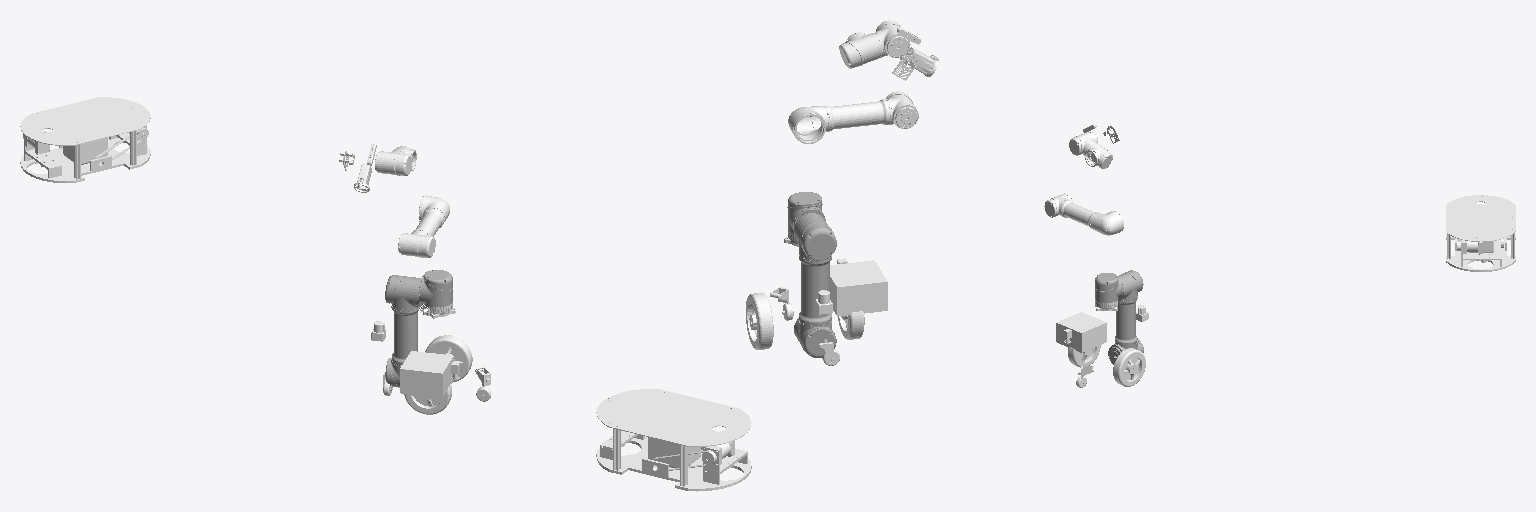
--- What the picture shows (computed from the rendered views, not written in the file) ---
3 views of the same robot in one strip: view 1: azimuth 30°, elevation 25°; view 2: azimuth 150°, elevation 25°; view 3: azimuth 270°, elevation 25° (orthographic).
Model agv_arm with 31 links and 30 joints (12 revolute, 2 prismatic, 16 fixed), rooted at base_link, posed all joints at 0.
Links seen in each view (by area): view 1: base_link, link2, pc_link, link3, link1, right_link, link5, left_link; view 2: base_link, link2, link3, pc_link, right_link, link4, link1, link5, left_link; view 3: base_link, link2, link3, pc_link, right_link, link1, link4.
Boxes of the visible links, x1,y1,x2,y2 form: base_link: (20,97,150,182); link2: (385,275,422,387); pc_link: (400,351,453,397); link3: (398,195,449,257); link1: (419,270,452,314); right_link: (425,335,472,381); link5: (375,151,411,175); left_link: (404,384,451,414); base_link: (596,389,751,491); link2: (794,213,836,357); link3: (788,91,918,143); pc_link: (830,260,887,316); right_link: (746,293,773,349); link4: (839,32,882,68); link1: (787,192,825,243); link5: (875,20,910,57); left_link: (838,311,864,339); base_link: (1446,195,1515,271); link2: (1108,270,1143,364); link3: (1044,193,1123,235); pc_link: (1056,312,1106,352); right_link: (1113,348,1145,386); link1: (1095,273,1123,309); link4: (1084,142,1112,168).
Bounding box of the posed robot: 1.04 × 2.37 × 1.24 m (x, y, z).
21 mesh visuals loaded from 22 distinct referenced files (21 binary STL); not drawn: 1 (reference not matched to a file when rendering).

robot.urdf — agv_arm:
<?xml version="1.0" encoding="utf-8"?>
<!-- =================================================================================== -->
<!-- |    This document was autogenerated by xacro from test_agv_arm.xacro             | -->
<!-- |    EDITING THIS FILE BY HAND IS NOT RECOMMENDED                                 | -->
<!-- =================================================================================== -->
<robot name="agv_arm">
  <!-- T265 Fisheye:

  gazebo_ros_camera supports only plumb_bob
  D: [-0.007419134024530649, 0.041209351271390915, -0.03811917081475258, 0.006366158835589886, 0.0]

  <distortionK1>-0.007419134024530649</distortionK1>
  <distortionK2>0.041209351271390915</distortionK2>
  <distortionK3>-0.03811917081475258</distortionK3>
  <distortionT1>0.006366158835589886</distortionT1>
  <distortionT2>0.0</distortionT2>

       [fx'  0  cx' Tx]
   P = [ 0  fy' cy' Ty]
       [ 0   0   1   0]

   P : [ 285.5480041503906, 0.0, 416.00531005859375, 0.0,
         0.0, 285.3793029785156, 403.38909912109375, 0.0,
         0.0, 0.0, 1.0, 0.0 ]

  <CxPrime>416.00531005859375</CxPrime>

       [fx  0 cx]
   K = [ 0 fy cy]
       [ 0  0  1]

   K : [ 285.5480041503906, 0.0, 416.00531005859375,
         0.0, 285.3793029785156, 403.38909912109375,
         0.0, 0.0, 1.0]

  <Cx>16.00531005859375</Cx>
  <Cy>403.38909912109375</Cy>

  -->
  <!-- INTEL REALSENSE T265 -->
  <!-- INTEL REALSENSE D435 -->
  <!-- INTEL REALSENSE R200 -->
  <link name="base_link">
    <inertial>
      <origin rpy="0 0 0" xyz="0.570341970178263 -1.88528825872453 -0.303668536274056"/>
      <mass value="5.35773705728221"/>
      <inertia ixx="0.0789888195141756" ixy="0.0296735251325005" ixz="6.86804058743938E-05" iyy="0.0636306474316624" iyz="-6.67380007365019E-05" izz="0.111507797834734"/>
    </inertial>
    <visual>
      <origin rpy="0 0 0" xyz="0 0 0"/>
      <geometry>
        <mesh filename="package://agv_arm/meshes/base_link.STL"/>
      </geometry>
      <material name="">
        <color rgba="1 1 1 1"/>
      </material>
    </visual>
    <collision>
      <origin rpy="0 0 0" xyz="0 0 0"/>
      <geometry>
        <mesh filename="package://agv_arm/meshes/base_link.STL"/>
      </geometry>
    </collision>
  </link>
  <link name="left_link">
    <inertial>
      <origin rpy="0 0 0" xyz="-3.3515E-11 -2.999E-08 -0.0034865"/>
      <mass value="1.043"/>
      <inertia ixx="0.0031452" ixy="-1.693E-13" ixz="1.1637E-08" iyy="0.0031454" iyz="7.3781E-11" izz="0.005867"/>
    </inertial>
    <visual>
      <origin rpy="0 0 0" xyz="0 0 0"/>
      <geometry>
        <mesh filename="package://agv_arm/meshes/left_link.STL"/>
      </geometry>
      <material name="">
        <color rgba="1 1 1 1"/>
      </material>
    </visual>
    <collision>
      <origin rpy="0 0 0" xyz="0 0 0"/>
      <geometry>
        <mesh filename="package://agv_arm/meshes/left_link.STL"/>
      </geometry>
    </collision>
  </link>
  <joint name="left_joint" type="revolute">
    <origin rpy="1.5708 -0.087266 -0.7854" xyz="0.45399 -2.0016 -0.34097"/>
    <parent link="base_link"/>
    <child link="left_link"/>
    <axis xyz="0 0 -1"/>
    <limit effort="1" lower="-1111" upper="1111" velocity="1"/>
  </joint>
  <link name="right_link">
    <inertial>
      <origin rpy="0 0 0" xyz="-3.3515E-11 -2.999E-08 -0.0034865"/>
      <mass value="1.043"/>
      <inertia ixx="0.0031452" ixy="-1.693E-13" ixz="1.1637E-08" iyy="0.0031454" iyz="7.3781E-11" izz="0.005867"/>
    </inertial>
    <visual>
      <origin rpy="0 0 0" xyz="0 0 0"/>
      <geometry>
        <mesh filename="package://agv_arm/meshes/right_link.STL"/>
      </geometry>
      <material name="">
        <color rgba="1 1 1 1"/>
      </material>
    </visual>
    <collision>
      <origin rpy="0 0 0" xyz="0 0 0"/>
      <geometry>
        <mesh filename="package://agv_arm/meshes/right_link.STL"/>
      </geometry>
    </collision>
  </link>
  <joint name="right_joint" type="revolute">
    <origin rpy="1.5708 -0.087266 2.3562" xyz="0.68663 -1.7689 -0.34097"/>
    <parent link="base_link"/>
    <child link="right_link"/>
    <axis xyz="0 0 -1"/>
    <limit effort="1" lower="-1111" upper="1111" velocity="1"/>
  </joint>
  <link name="lidar_link">
    <inertial>
      <origin rpy="0 0 0" xyz="-0.00029615 1.1284E-09 -0.020472"/>
      <mass value="0.13159"/>
      <inertia ixx="7.1462E-05" ixy="3.3196E-12" ixz="8.6535E-07" iyy="7.2311E-05" iyz="-2.4711E-12" izz="4.4677E-05"/>
    </inertial>
    <visual>
      <origin rpy="0 0 0" xyz="0 0 0"/>
      <geometry>
        <mesh filename="package://agv_arm/meshes/lidar_link.STL"/>
      </geometry>
      <material name="">
        <color rgba="1 1 1 1"/>
      </material>
    </visual>
    <collision>
      <origin rpy="0 0 0" xyz="0 0 0"/>
      <geometry>
        <mesh filename="package://agv_arm/meshes/lidar_link.STL"/>
      </geometry>
    </collision>
  </link>
  <joint name="lidar_joint" type="fixed">
    <origin rpy="0 0 2.35619449021312" xyz="0.392951119656292 -1.70790005142473 -0.152629369887627"/>
    <parent link="base_link"/>
    <child link="lidar_link"/>
    <axis xyz="0 0 0"/>
  </joint>
  <link name="pwr_link">
    <inertial>
      <origin rpy="0 0 0" xyz="0.0149998988087228 0.0149999922703186 0.0302002587155129"/>
      <mass value="0.0494935351719684"/>
      <inertia ixx="2.25637713562706E-05" ixy="1.12310101294322E-11" ixz="1.59879773971087E-10" iyy="2.25636840533923E-05" iyz="1.00765741356031E-11" izz="6.57719217809586E-06"/>
    </inertial>
    <visual>
      <origin rpy="0 0 0" xyz="0 0 0"/>
      <geometry>
        <mesh filename="package://agv_arm/meshes/pwr_link.STL"/>
      </geometry>
      <material name="">
        <color rgba="1 1 1 1"/>
      </material>
    </visual>
    <collision>
      <origin rpy="0 0 0" xyz="0 0 0"/>
      <geometry>
        <mesh filename="package://agv_arm/meshes/pwr_link.STL"/>
      </geometry>
    </collision>
  </link>
  <joint name="pwr_joint" type="fixed">
    <origin rpy="0 0 -0.785398163397464" xyz="0.537047851449455 -2.06195108550525 -0.202629369887631"/>
    <parent link="base_link"/>
    <child link="pwr_link"/>
    <axis xyz="0 0 0"/>
  </joint>
  <link name="pc_link">
    <inertial>
      <origin rpy="0 0 0" xyz="0.0900000000000007 0.0899999999999996 0.0549999999999987"/>
      <mass value="3.564"/>
      <inertia ixx="0.0132165" ixy="2.16840434497101E-18" ixz="4.48566380417753E-17" iyy="0.0132165" iyz="3.91188156878236E-17" izz="0.0192456"/>
    </inertial>
    <visual>
      <origin rpy="0 0 0" xyz="0 0 0"/>
      <geometry>
        <mesh filename="package://agv_arm/meshes/pc_link.STL"/>
      </geometry>
      <material name="">
        <color rgba="1 1 1 1"/>
      </material>
    </visual>
    <collision>
      <origin rpy="0 0 0" xyz="0 0 0"/>
      <geometry>
        <mesh filename="package://agv_arm/meshes/pc_link.STL"/>
      </geometry>
    </collision>
  </link>
  <joint name="pc_joint" type="fixed">
    <origin rpy="0 0 -0.785398163397444" xyz="0.443428957278179 -1.8856571096602 -0.202629369887629"/>
    <parent link="base_link"/>
    <child link="pc_link"/>
    <axis xyz="0 0 0"/>
  </joint>
  <link name="arm_base_link">
    <inertial>
      <origin rpy="0 0 0" xyz="0.00490052804003338 -0.00481017320563648 -0.021066541781232"/>
      <mass value="0.186287727416132"/>
      <inertia ixx="0.000289688079345907" ixy="2.81201318343738E-05" ixz="1.49660636248942E-06" iyy="0.00029261821718986" iyz="-1.97623307664118E-06" izz="0.000520691140482188"/>
    </inertial>
    <visual>
      <origin rpy="0 0 0" xyz="0 0 0"/>
      <geometry>
        <mesh filename="package://agv_arm/meshes/arm_base_link.STL"/>
      </geometry>
      <material name="">
        <color rgba="1 1 1 1"/>
      </material>
    </visual>
    <collision>
      <origin rpy="0 0 0" xyz="0 0 0"/>
      <geometry>
        <mesh filename="package://agv_arm/meshes/arm_base_link.STL"/>
      </geometry>
    </collision>
  </link>
  <joint name="arm_base_joint" type="fixed">
    <origin rpy="0 0 0.785398163397444" xyz="0.0900000000000019 0.0900000000000007 0.148999999999999"/>
    <parent link="pc_link"/>
    <child link="arm_base_link"/>
    <axis xyz="0 0 0"/>
  </joint>
  <link name="link1">
    <inertial>
      <origin rpy="0 0 0" xyz="-0.0580836115244474 -0.00236345578723585 3.37147547622152E-05"/>
      <mass value="1.61405847784087"/>
      <inertia ixx="0.00291567801316754" ixy="-3.39495643450864E-05" ixz="3.86124786793899E-06" iyy="0.00431965883928423" iyz="-2.13734994359421E-07" izz="0.0043496458043079"/>
    </inertial>
    <visual>
      <origin rpy="0 0 0" xyz="0 0 0"/>
      <geometry>
        <mesh filename="package://agv_arm/meshes/link1.STL"/>
      </geometry>
      <material name="">
        <color rgba="0.752941176470588 0.752941176470588 0.752941176470588 1"/>
      </material>
    </visual>
    <collision>
      <origin rpy="0 0 0" xyz="0 0 0"/>
      <geometry>
        <mesh filename="package://agv_arm/meshes/link1.STL"/>
      </geometry>
    </collision>
  </link>
  <joint name="joint1" type="revolute">
    <origin rpy="2.3562 1.5708 0" xyz="0 0 0.0147"/>
    <parent link="arm_base_link"/>
    <child link="link1"/>
    <axis xyz="-1 0 0"/>
    <limit effort="1" lower="-11" upper="11" velocity="1"/>
  </joint>
  <link name="link2">
    <inertial>
      <origin rpy="0 0 0" xyz="-0.058443072043219 -0.187149982610973 8.10917333282646E-10"/>
      <mass value="3.791948779547"/>
      <inertia ixx="0.12031941503411" ixy="-4.02923389005563E-07" ixz="-8.3128712247138E-12" iyy="0.00991248720502792" iyz="-2.05172273895114E-05" izz="0.123189953162704"/>
    </inertial>
    <visual>
      <origin rpy="0 0 0" xyz="0 0 0"/>
      <geometry>
        <mesh filename="package://agv_arm/meshes/link2.STL"/>
      </geometry>
      <material name="">
        <color rgba="0.752941176470588 0.752941176470588 0.752941176470588 1"/>
      </material>
    </visual>
    <collision>
      <origin rpy="0 0 0" xyz="0 0 0"/>
      <geometry>
        <mesh filename="package://agv_arm/meshes/link2.STL"/>
      </geometry>
    </collision>
  </link>
  <joint name="joint2" type="revolute">
    <origin rpy="-3.1411 0 1.5708" xyz="-0.0605 -0.0774 0"/>
    <parent link="link1"/>
    <child link="link2"/>
    <axis xyz="-1 0 0"/>
    <limit effort="1" lower="-11" upper="11" velocity="1"/>
  </joint>
  <link name="link3">
    <inertial>
      <origin rpy="0 0 0" xyz="0.00327690020152471 0.230716519226641 -4.09806422019265E-06"/>
      <mass value="1.56494299506339"/>
      <inertia ixx="0.0317706162407526" ixy="0.00116167025812189" ixz="-2.34389404700323E-07" iyy="0.00289552973549577" iyz="8.33772344867732E-07" izz="0.0324540099023521"/>
    </inertial>
    <visual>
      <origin rpy="0 0 0" xyz="0 0 0"/>
      <geometry>
        <mesh filename="package://agv_arm/meshes/link3.STL"/>
      </geometry>
      <material name="">
        <color rgba="1 1 1 1"/>
      </material>
    </visual>
    <collision>
      <origin rpy="0 0 0" xyz="0 0 0"/>
      <geometry>
        <mesh filename="package://agv_arm/meshes/link3.STL"/>
      </geometry>
    </collision>
  </link>
  <joint name="joint3" type="revolute">
    <origin rpy="-0.5236 0 -3.1416" xyz="0.0776 -0.3743 0"/>
    <parent link="link2"/>
    <child link="link3"/>
    <axis xyz="1 0 0"/>
    <limit effort="1" lower="-11" upper="11" velocity="1"/>
  </joint>
  <link name="link4">
    <inertial>
      <origin rpy="0 0 0" xyz="0.11561 5.7097E-05 -0.00018258"/>
      <mass value="0.84041"/>
      <inertia ixx="0.0015998" ixy="-1.1435E-06" ixz="3.8465E-06" iyy="0.0015497" iyz="0.00017286" izz="0.00094873"/>
    </inertial>
    <visual>
      <origin rpy="0 0 0" xyz="0 0 0"/>
      <geometry>
        <mesh filename="package://agv_arm/meshes/link4.STL"/>
      </geometry>
      <material name="">
        <color rgba="1 1 1 1"/>
      </material>
    </visual>
    <collision>
      <origin rpy="0 0 0" xyz="0 0 0"/>
      <geometry>
        <mesh filename="package://agv_arm/meshes/link4.STL"/>
      </geometry>
    </collision>
  </link>
  <joint name="joint4" type="revolute">
    <origin rpy="0.52406 0 0" xyz="-0.0023 0.343 0"/>
    <parent link="link3"/>
    <child link="link4"/>
    <axis xyz="-1 0 0"/>
    <limit effort="1" lower="-11" upper="11" velocity="1"/>
  </joint>
  <link name="link5">
    <inertial>
      <origin rpy="0 0 0" xyz="0.115612522026538 -7.97844709499174E-06 0.000191136766434452"/>
      <mass value="0.840412058075631"/>
      <inertia ixx="0.00159982898122317" ixy="1.09937156347989E-07" ixz="-4.011756874856E-06" iyy="0.00159587978369747" iyz="-2.27476393969435E-07" izz="0.000902559738954227"/>
    </inertial>
    <visual>
      <origin rpy="0 0 0" xyz="0 0 0"/>
      <geometry>
        <mesh filename="package://agv_arm/meshes/link5.STL"/>
      </geometry>
      <material name="">
        <color rgba="1 1 1 1"/>
      </material>
    </visual>
    <collision>
      <origin rpy="0 0 0" xyz="0 0 0"/>
      <geometry>
        <mesh filename="package://agv_arm/meshes/link5.STL"/>
      </geometry>
    </collision>
  </link>
  <joint name="joint5" type="revolute">
    <origin rpy="1.5708 1.3095 1.5708" xyz="0.117 -0.00059425 0.0022219"/>
    <parent link="link4"/>
    <child link="link5"/>
    <axis xyz="-1 0 0"/>
    <limit effort="1" lower="-11" upper="11" velocity="1"/>
  </joint>
  <link name="link6">
    <inertial>
      <origin rpy="0 0 0" xyz="0.0937284093899606 0.00125643016528976 -0.00340032585429439"/>
      <mass value="0.0668194609592444"/>
      <inertia ixx="5.23286445076854E-05" ixy="-2.75892558766107E-07" ixz="7.6426085456963E-06" iyy="9.37815768650153E-05" iyz="-5.05869329356398E-08" izz="9.75627483530319E-05"/>
    </inertial>
    <visual>
      <origin rpy="0 0 0" xyz="0 0 0"/>
      <geometry>
        <mesh filename="package://agv_arm/meshes/link6.STL"/>
      </geometry>
      <material name="">
        <color rgba="1 1 1 1"/>
      </material>
    </visual>
    <collision>
      <origin rpy="0 0 0" xyz="0 0 0"/>
      <geometry>
        <mesh filename="package://agv_arm/meshes/link6.STL"/>
      </geometry>
    </collision>
  </link>
  <joint name="joint6" type="revolute">
    <origin rpy="2.4586 1.5708 0" xyz="0.1172 0.0011441 0.20381"/>
    <parent link="link5"/>
    <child link="link6"/>
    <axis xyz="1 0 0"/>
    <limit effort="1" lower="-11" upper="11" velocity="1"/>
  </joint>
  <link name="d415_link">
    <inertial>
      <origin rpy="0 0 0" xyz="-8.80002689940262E-06 -0.0111114286769174 -0.00437440361856423"/>
      <mass value="0.0164396913357332"/>
      <inertia ixx="1.36517854018282E-06" ixy="-1.4832961618019E-11" ixz="1.86196491500686E-09" iyy="1.29701074407964E-05" iyz="-4.4074672358564E-08" izz="1.31174062505006E-05"/>
    </inertial>
    <visual>
      <origin rpy="0 0 0" xyz="0 0 0"/>
      <geometry>
        <mesh filename="package://agv_arm/meshes/d415_link.STL"/>
      </geometry>
      <material name="">
        <color rgba="1 1 1 1"/>
      </material>
    </visual>
    <collision>
      <origin rpy="0 0 0" xyz="0 0 0"/>
      <geometry>
        <mesh filename="package://agv_arm/meshes/d415_link.STL"/>
      </geometry>
    </collision>
  </link>
  <joint name="d415_joint" type="fixed">
    <origin rpy="1.5708 0 -1.5708" xyz="0.12161 0.0010118 -0.044069"/>
    <parent link="link6"/>
    <child link="d415_link"/>
    <axis xyz="0 0 0"/>
  </joint>
  <link name="end_Link">
    <inertial>
      <origin rpy="0 0 0" xyz="-1.6194E-12 -1.1574E-12 -0.058025"/>
      <mass value="0.017438"/>
      <inertia ixx="2.612E-06" ixy="-3.3357E-16" ixz="1.5154E-16" iyy="3.7889E-06" iyz="1.0639E-16" izz="5.2919E-06"/>
    </inertial>
    <visual>
      <origin rpy="0 0 0" xyz="0 0 0"/>
      <geometry>
        <mesh filename="package://agv_arm/meshes/end_Link.STL"/>
      </geometry>
      <material name="">
        <color rgba="1 1 1 1"/>
      </material>
    </visual>
    <collision>
      <origin rpy="0 0 0" xyz="0 0 0"/>
      <geometry>
        <mesh filename="package://agv_arm/meshes/end_Link.STL"/>
      </geometry>
    </collision>
  </link>
  <joint name="end_joint" type="fixed">
    <origin rpy="-1.5708 0 -1.5708" xyz="0.098859 0.0008176 -0.00037218"/>
    <parent link="link6"/>
    <child link="end_Link"/>
    <axis xyz="0 0 0"/>
  </joint>
  <link name="finger_link2">
    <inertial>
      <origin rpy="0 0 0" xyz="0.0187104737539545 -0.0153951860375225 -0.000375520770545368"/>
      <mass value="0.00520135161584462"/>
      <inertia ixx="1.83812760924892E-07" ixy="2.06102890915583E-08" ixz="2.81175606698671E-10" iyy="1.74961047766003E-06" iyz="7.48427007720244E-11" izz="1.6907528168377E-06"/>
    </inertial>
    <visual>
      <origin rpy="0 0 0" xyz="0 0 0"/>
      <geometry>
        <mesh filename="package://agv_arm/meshes/finger_link2.STL"/>
      </geometry>
      <material name="">
        <color rgba="1 1 1 1"/>
      </material>
    </visual>
    <collision>
      <origin rpy="0 0 0" xyz="0 0 0"/>
      <geometry>
        <mesh filename="package://agv_arm/meshes/finger_link2.STL"/>
      </geometry>
    </collision>
  </link>
  <joint name="finger_joint2" type="prismatic">
    <origin rpy="1.5708 -1.5708 0" xyz="0.0008176 -0.00037218 -0.098859"/>
    <parent link="end_Link"/>
    <child link="finger_link2"/>
    <axis xyz="0 -1 0"/>
    <limit effort="1" lower="-0.1" upper="0.1" velocity="1"/>
  </joint>
  <link name="finger_link1">
    <inertial>
      <origin rpy="0 0 0" xyz="0.0187104737539552 0.0170303895104817 -0.000368846804288392"/>
      <mass value="0.0052013516158447"/>
      <inertia ixx="1.83812760924895E-07" ixy="-2.06102890915209E-08" ixz="-2.81175606748554E-10" iyy="1.74961047766009E-06" iyz="7.48427007708597E-11" izz="1.69075281683777E-06"/>
    </inertial>
    <visual>
      <origin rpy="0 0 0" xyz="0 0 0"/>
      <geometry>
        <mesh filename="package://agv_arm/meshes/finger_link1.STL"/>
      </geometry>
      <material name="">
        <color rgba="1 1 1 1"/>
      </material>
    </visual>
    <collision>
      <origin rpy="0 0 0" xyz="0 0 0"/>
      <geometry>
        <mesh filename="package://agv_arm/meshes/finger_link1.STL"/>
      </geometry>
    </collision>
  </link>
  <joint name="finger_joint1" type="prismatic">
    <origin rpy="1.5708 -1.5708 0" xyz="0.0008176 -0.00037218 -0.098859"/>
    <parent link="end_Link"/>
    <child link="finger_link1"/>
    <axis xyz="0 -1 0"/>
    <limit effort="1" lower="-0.1" upper="0.1" velocity="1"/>
  </joint>
  <link name="front_link1">
    <inertial>
      <origin rpy="0 0 0" xyz="0.00454938714218511 -0.015085259662572 -0.000170656801913083"/>
      <mass value="0.034500655949196"/>
      <inertia ixx="2.12981416033846E-05" ixy="5.75050325361881E-06" ixz="-2.10334644621655E-08" iyy="1.1496091748026E-05" iyz="4.74056732385173E-08" izz="2.38494390827886E-05"/>
    </inertial>
    <visual>
      <origin rpy="0 0 0" xyz="0 0 0"/>
      <geometry>
        <mesh filename="package://agv_arm/meshes/front_link1.STL"/>
      </geometry>
      <material name="">
        <color rgba="1 1 1 1"/>
      </material>
    </visual>
    <collision>
      <origin rpy="0 0 0" xyz="0 0 0"/>
      <geometry>
        <mesh filename="package://agv_arm/meshes/front_link1.STL"/>
      </geometry>
    </collision>
  </link>
  <joint name="front_joint1" type="revolute">
    <origin rpy="1.5708 0 -2.348" xyz="0.4146 -1.7543 -0.34847"/>
    <parent link="base_link"/>
    <child link="front_link1"/>
    <axis xyz="0 -1 0"/>
    <limit effort="1" lower="-11" upper="11" velocity="1"/>
  </joint>
  <link name="front_link2">
    <inertial>
      <origin rpy="0 0 0" xyz="-0.0124999976229834 -9.50171608060657E-11 -6.94045200200222E-08"/>
      <mass value="0.0687071234614241"/>
      <inertia ixx="2.95185233018021E-05" ixy="-7.42208136188817E-12" ixz="2.12622845609782E-12" iyy="1.83159672228595E-05" iyz="-1.34415464249044E-12" izz="1.83150441372356E-05"/>
    </inertial>
    <visual>
      <origin rpy="0 0 0" xyz="0 0 0"/>
      <geometry>
        <mesh filename="package://agv_arm/meshes/front_link2.STL"/>
      </geometry>
      <material name="">
        <color rgba="1 1 1 1"/>
      </material>
    </visual>
    <collision>
      <origin rpy="0 0 0" xyz="0 0 0"/>
      <geometry>
        <mesh filename="package://agv_arm/meshes/front_link2.STL"/>
      </geometry>
    </collision>
  </link>
  <joint name="front_joint2" type="revolute">
    <origin rpy="0 1.5626 0" xyz="0.021029 -0.06 -0.012535"/>
    <parent link="front_link1"/>
    <child link="front_link2"/>
    <axis xyz="1 0 0"/>
    <limit effort="1" lower="-11" upper="11" velocity="1"/>
  </joint>
  <link name="back_link1">
    <inertial>
      <origin rpy="0 0 0" xyz="-0.00346069454949682 -0.0150852596625721 0.00297090233373076"/>
      <mass value="0.0345006559491962"/>
      <inertia ixx="2.25737904320763E-05" ixy="-4.06635819984328E-06" ixz="1.27582213248182E-06" iyy="1.1496091748026E-05" iyz="4.06635782467598E-06" izz="2.25737902540973E-05"/>
    </inertial>
    <visual>
      <origin rpy="0 0 0" xyz="0 0 0"/>
      <geometry>
        <mesh filename="package://agv_arm/meshes/back_link1.STL"/>
      </geometry>
      <material name="">
        <color rgba="1 1 1 1"/>
      </material>
    </visual>
    <collision>
      <origin rpy="0 0 0" xyz="0 0 0"/>
      <geometry>
        <mesh filename="package://agv_arm/meshes/back_link1.STL"/>
      </geometry>
    </collision>
  </link>
  <joint name="back_joint1" type="revolute">
    <origin rpy="1.5708 0 0" xyz="0.72612 -2.0163 -0.34847"/>
    <parent link="base_link"/>
    <child link="back_link1"/>
    <axis xyz="0 -1 0"/>
    <limit effort="1" lower="-11" upper="11" velocity="1"/>
  </joint>
  <link name="back_link2">
    <inertial>
      <origin rpy="0 0 0" xyz="0.0125000023770157 -9.50173828506706E-11 -6.94045209082006E-08"/>
      <mass value="0.0687071234614254"/>
      <inertia ixx="2.9518523301803E-05" ixy="-7.42208142249208E-12" ixz="2.12622844932155E-12" iyy="1.83159672228599E-05" iyz="-1.34415462039289E-12" izz="1.83150441372361E-05"/>
    </inertial>
    <visual>
      <origin rpy="0 0 0" xyz="0 0 0"/>
      <geometry>
        <mesh filename="package://agv_arm/meshes/back_link2.STL"/>
      </geometry>
      <material name="">
        <color rgba="1 1 1 1"/>
      </material>
    </visual>
    <collision>
      <origin rpy="0 0 0" xyz="0 0 0"/>
      <geometry>
        <mesh filename="package://agv_arm/meshes/back_link2.STL"/>
      </geometry>
    </collision>
  </link>
  <joint name="back_joint2" type="revolute">
    <origin rpy="0 -0.7854 0" xyz="-0.02388 -0.06 0.0057124"/>
    <parent link="back_link1"/>
    <child link="back_link2"/>
    <axis xyz="1 0 0"/>
    <limit effort="1" lower="-11" upper="11" velocity="1"/>
  </joint>
  <!-- TEST -->
  <!-- camera body, with origin at bottom screw mount -->
  <joint name="d435_joint" type="fixed">
    <origin rpy="0 -1.570 1.570 " xyz="0 0 0.0"/>
    <parent link="d415_link"/>
    <child link="d435_bottom_screw_frame"/>
  </joint>
  <link name="d435_bottom_screw_frame"/>
  <joint name="d435_link_joint" type="fixed">
    <origin rpy="0 0 0" xyz="0 0.0175 0.0125"/>
    <parent link="d435_bottom_screw_frame"/>
    <child link="d435_link"/>
  </joint>
  <link name="d435_link">
    <visual>
      <origin rpy="1.57079632679 0 1.57079632679" xyz="0.0149 -0.0175 0"/>
      <geometry>
        <mesh filename="package://realsense_ros_gazebo/meshes/realsense_d435.stl"/>
      </geometry>
    </visual>
    <collision>
      <origin rpy="0 0 0" xyz="0 -0.0175 0"/>
      <geometry>
        <box size="0.02505 0.09 0.025"/>
      </geometry>
    </collision>
    <inertial>
      <mass value="0.564"/>
      <origin rpy="0 0 0" xyz="0 -0.0175 0"/>
      <inertia ixx="0.000410075" ixy="0" ixz="0" iyy="5.88676175e-05" iyz="0" izz="5.88676175e-05"/>
    </inertial>
  </link>
  <!-- camera depth joints and links -->
  <joint name="d435_depth_joint" type="fixed">
    <origin rpy="0 0 0" xyz="0 0 0"/>
    <parent link="d435_link"/>
    <child link="d435_depth_frame"/>
  </joint>
  <link name="d435_depth_frame"/>
  <joint name="d435_depth_optical_joint" type="fixed">
    <origin rpy="-1.57079632679 0 -1.57079632679" xyz="0 0 0"/>
    <parent link="d435_depth_frame"/>
    <child link="d435_depth_optical_frame"/>
  </joint>
  <link name="d435_depth_optical_frame"/>
  <!-- camera left IR joints and links -->
  <joint name="d435_left_ir_joint" type="fixed">
    <origin rpy="0 0 0" xyz="0 0.0 0"/>
    <parent link="d435_depth_frame"/>
    <child link="d435_left_ir_frame"/>
  </joint>
  <link name="d435_left_ir_frame"/>
  <joint name="d435_left_ir_optical_joint" type="fixed">
    <origin rpy="-1.57079632679 0 -1.57079632679" xyz="0 0 0"/>
    <parent link="d435_left_ir_frame"/>
    <child link="d435_left_ir_optical_frame"/>
  </joint>
  <link name="d435_left_ir_optical_frame"/>
  <!-- camera right IR joints and links -->
  <joint name="d435_right_ir_joint" type="fixed">
    <origin rpy="0 0 0" xyz="0 -0.05 0"/>
    <parent link="d435_depth_frame"/>
    <child link="d435_right_ir_frame"/>
  </joint>
  <link name="d435_right_ir_frame"/>
  <joint name="d435_right_ir_optical_joint" type="fixed">
    <origin rpy="-1.57079632679 0 -1.57079632679" xyz="0 0 0"/>
    <parent link="d435_right_ir_frame"/>
    <child link="d435_right_ir_optical_frame"/>
  </joint>
  <link name="d435_right_ir_optical_frame"/>
  <!-- camera color joints and links -->
  <joint name="d435_color_joint" type="fixed">
    <origin rpy="0 0 0" xyz="0 0.015 0"/>
    <parent link="d435_depth_frame"/>
    <child link="d435_color_frame"/>
  </joint>
  <link name="d435_color_frame"/>
  <joint name="d435_color_optical_joint" type="fixed">
    <origin rpy="-1.57079632679 0 -1.57079632679" xyz="0 0 0"/>
    <parent link="d435_color_frame"/>
    <child link="d435_color_optical_frame"/>
  </joint>
  <link name="d435_color_optical_frame"/>
  <!-- gazebo plugin -->
  <gazebo reference="d435_link">
    <self_collide>0</self_collide>
    <enable_wind>0</enable_wind>
    <kinematic>0</kinematic>
    <gravity>1</gravity>
    <mu2>1</mu2>
    <fdir1>0 0 0</fdir1>
    <kp>1e+13</kp>
    <kd>1</kd>
    <sensor name="d435_color" type="camera">
      <camera name="d435">
        <horizontal_fov>1.21125850088</horizontal_fov>
        <image>
          <width>640</width>
          <height>480</height>
          <format>RGB_INT8</format>
        </image>
        <clip>
          <near>0.1</near>
          <far>100</far>
        </clip>
        <noise>
          <type>gaussian</type>
          <mean>0.0</mean>
          <stddev>0.007</stddev>
        </noise>
      </camera>
      <always_on>1</always_on>
      <update_rate>30</update_rate>
      <visualize>1</visualize>
    </sensor>
    <sensor name="d435_ired1" type="camera">
      <camera name="d435">
        <horizontal_fov>1.4870205227</horizontal_fov>
        <image>
          <width>1280</width>
          <height>720</height>
          <format>L_INT8</format>
        </image>
        <clip>
          <near>0.1</near>
          <far>100</far>
        </clip>
        <noise>
          <type>gaussian</type>
          <mean>0.0</mean>
          <stddev>0.05</stddev>
        </noise>
      </camera>
      <always_on>1</always_on>
      <update_rate>90</update_rate>
      <visualize>0</visualize>
    </sensor>
    <sensor name="d435_ired2" type="camera">
      <camera name="d435">
        <horizontal_fov>1.4870205227</horizontal_fov>
        <image>
          <width>1280</width>
          <height>720</height>
          <format>L_INT8</format>
        </image>
        <clip>
          <near>0.1</near>
          <far>100</far>
        </clip>
        <noise>
          <type>gaussian</type>
          <mean>0.0</mean>
          <stddev>0.05</stddev>
        </noise>
      </camera>
      <always_on>1</always_on>
      <update_rate>90</update_rate>
      <visualize>0</visualize>
    </sensor>
    <sensor name="d435_depth" type="depth">
      <camera name="d435">
        <horizontal_fov>1.4870205227</horizontal_fov>
        <image>
          <width>1280</width>
          <height>720</height>
        </image>
        <clip>
          <near>0.1</near>
          <far>100</far>
        </clip>
        <noise>
          <type>gaussian</type>
          <mean>0.0</mean>
          <stddev>0.100</stddev>
        </noise>
      </camera>
      <always_on>1</always_on>
      <update_rate>90</update_rate>
      <visualize>0</visualize>
    </sensor>
  </gazebo>
  <gazebo>
    <plugin filename="librealsense_gazebo_plugin.so" name="d435">
      <prefix>d435_</prefix>
      <depthUpdateRate>10</depthUpdateRate>
      <colorUpdateRate>10</colorUpdateRate>
      <infraredUpdateRate>10</infraredUpdateRate>
      <depthTopicName>depth/image_raw</depthTopicName>
      <depthCameraInfoTopicName>depth/camera_info</depthCameraInfoTopicName>
      <colorTopicName>color/image_raw</colorTopicName>
      <colorCameraInfoTopicName>color/camera_info</colorCameraInfoTopicName>
      <infrared1TopicName>infra1/image_raw</infrared1TopicName>
      <infrared1CameraInfoTopicName>infra1/camera_info</infrared1CameraInfoTopicName>
      <infrared2TopicName>infra2/image_raw</infrared2TopicName>
      <infrared2CameraInfoTopicName>infra2/camera_info</infrared2CameraInfoTopicName>
      <colorOpticalframeName>d435_color_optical_frame</colorOpticalframeName>
      <depthOpticalframeName>d435_depth_optical_frame</depthOpticalframeName>
      <infrared1OpticalframeName>d435_infrared1_optical_frame</infrared1OpticalframeName>
      <infrared2OpticalframeName>d435_infrared2_optical_frame</infrared2OpticalframeName>
      <rangeMinDepth>0.2</rangeMinDepth>
      <rangeMaxDepth>10.0</rangeMaxDepth>
      <pointCloud>false</pointCloud>
      <pointCloudTopicName>depth/color/points</pointCloudTopicName>
      <pointCloudCutoff>0.25</pointCloudCutoff>
      <pointCloudCutoffMax>9.0</pointCloudCutoffMax>
    </plugin>
  </gazebo>
</robot>
